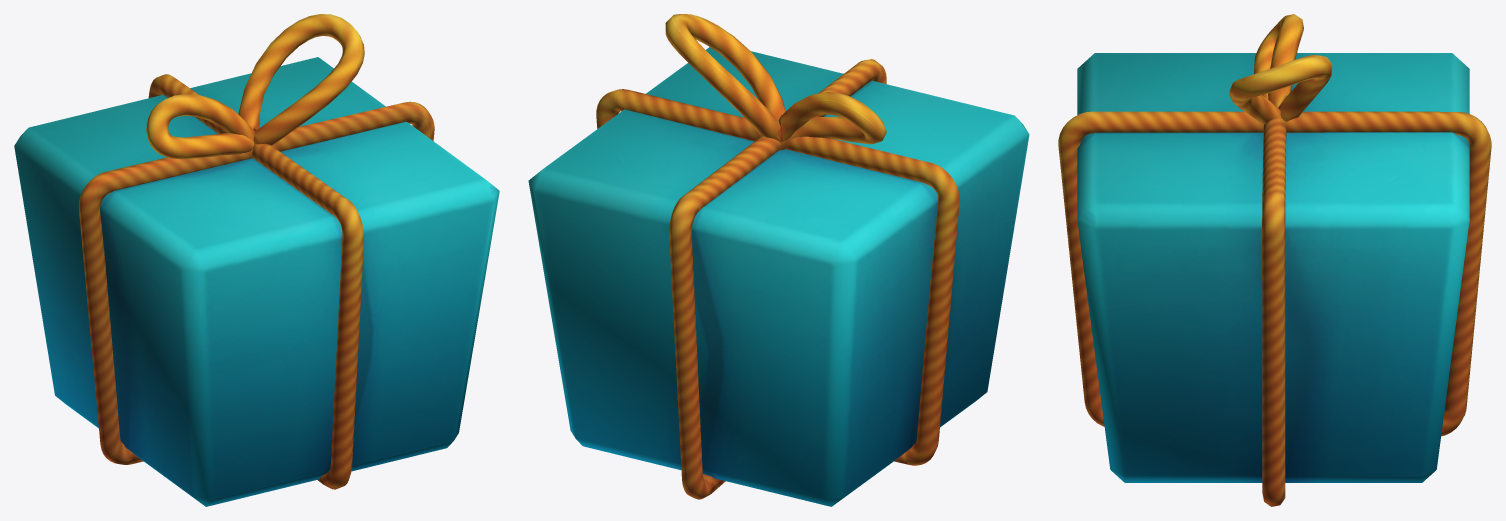
Rendered from SE_Present_03.fbx.
3 renders of one model, left to right at view 1: azimuth 30°, elevation 25°; view 2: azimuth 150°, elevation 25°; view 3: azimuth 270°, elevation 25°, orthographic. The views are drawn at different scales.
Visible parts, largest first — view 1: SE_Present_03; view 2: SE_Present_03; view 3: SE_Present_03.
Part boxes in pixels (x1,y1,x2,y2): SE_Present_03: (14, 14, 499, 506); SE_Present_03: (528, 14, 1029, 506); SE_Present_03: (1058, 14, 1491, 506).
Size of the model in its own units: 2.09 by 2.24 by 2.09.
